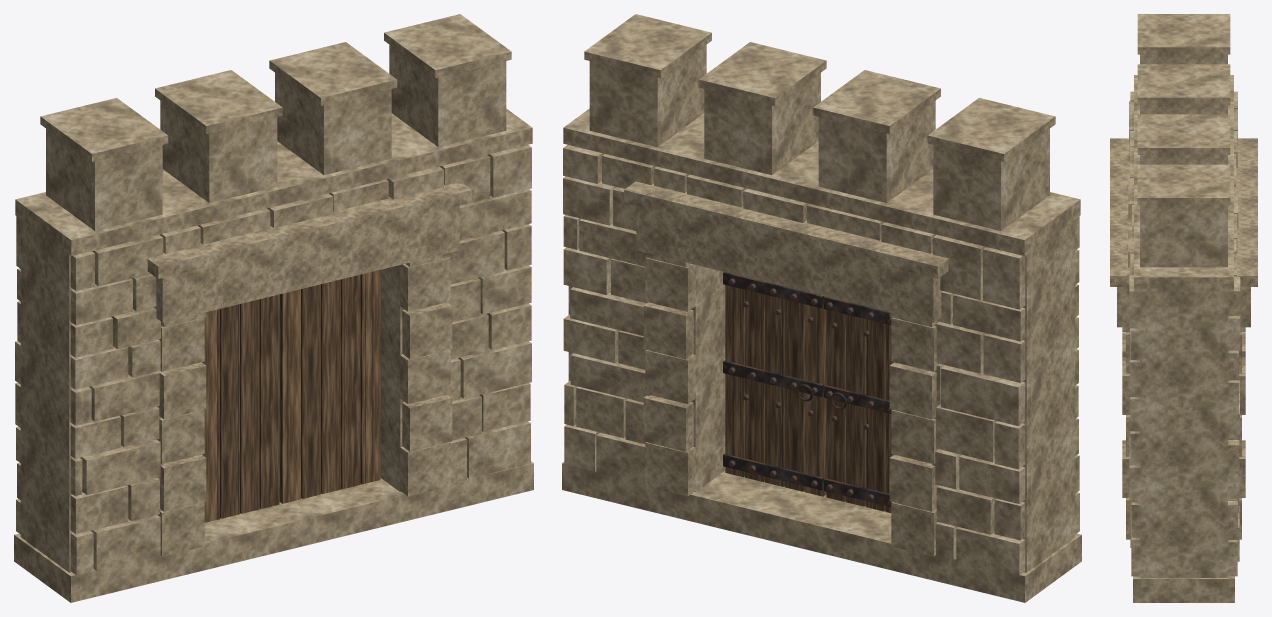
File: porta_due_battenti.gltf
3 renders of one model, left to right at view 1: azimuth 30°, elevation 25°; view 2: azimuth 150°, elevation 25°; view 3: azimuth 270°, elevation 25°, orthographic. The views are drawn at different scales.
Parts seen in each view (by area): view 1: porta_due_battenti; view 2: porta_due_battenti; view 3: porta_due_battenti.
Boxes of the visible parts, x1,y1,x2,y2 form: porta_due_battenti: (14, 14, 533, 602); porta_due_battenti: (562, 14, 1081, 602); porta_due_battenti: (1110, 14, 1257, 602).
Size of the model in its own units: 5.46 by 4.97 by 1.68.
3 materials, 3 textured.
